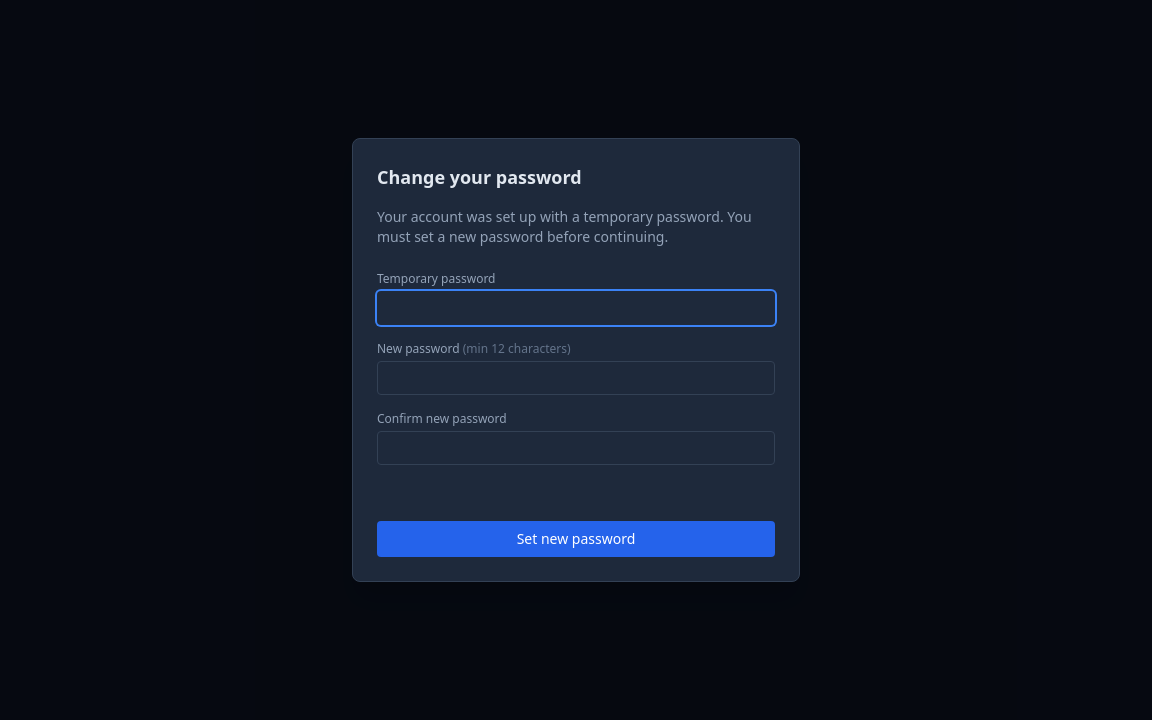
Test: ForceChangePasswordModal › shows server error on API failure
Type "wrongpassword1" into the password field labelled "Temporary password". click: [576, 308]
box: [377,291,775,325]
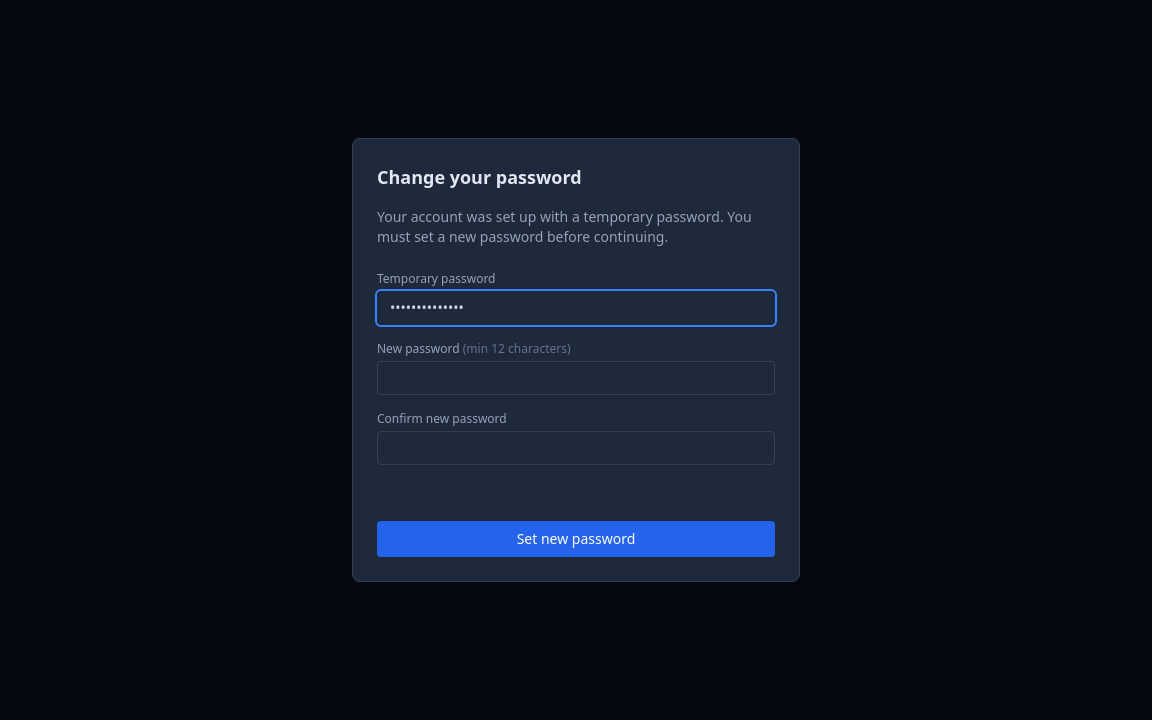
Type "newpassword12345" into the password field labelled "New password (min 12 characters)". click: [576, 378]
box: [377,361,775,395]
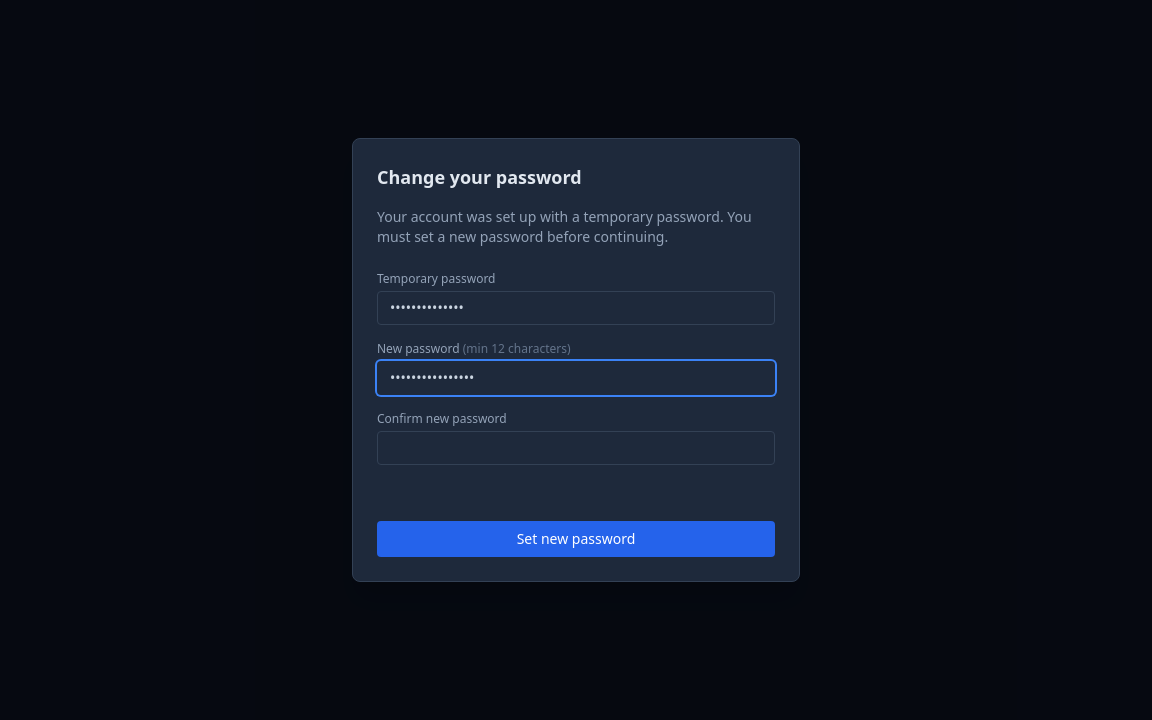
Type "newpassword12345" into the password field labelled "Confirm new password". click: [576, 448]
box: [377,431,775,465]
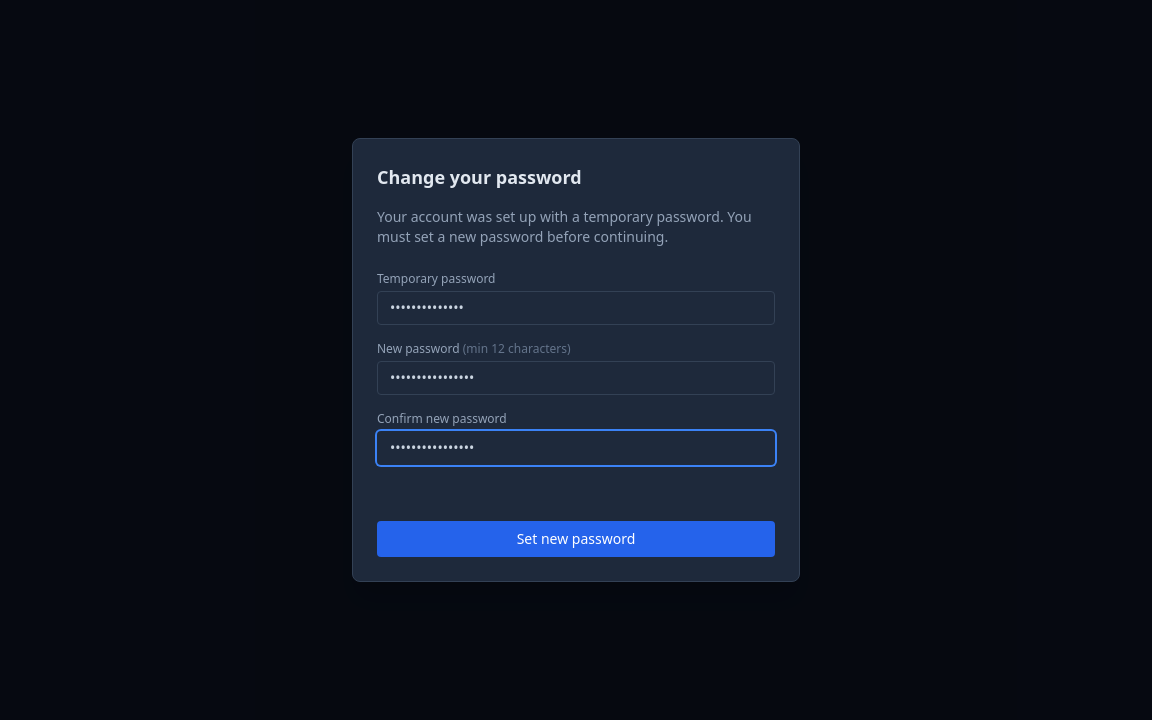
Click the button "Set new password". click: [576, 539]
box: [377,521,775,557]
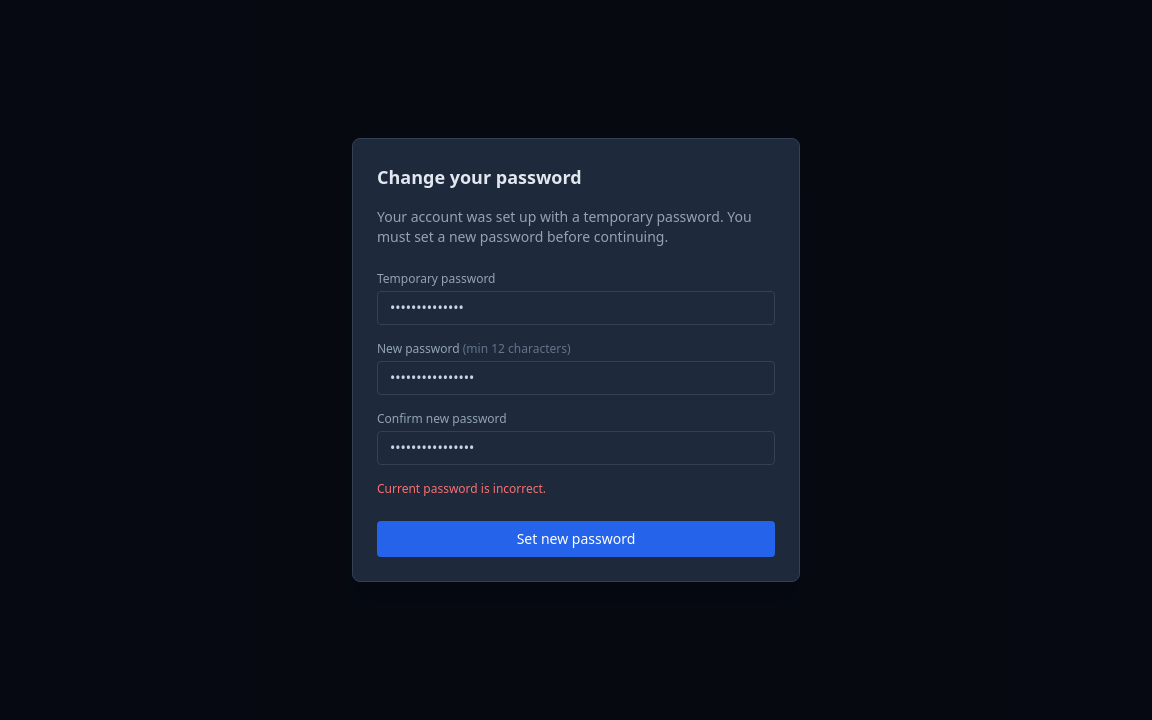
Check: the text "Current password is incorrect." is shown, box [377,480,546,497]
